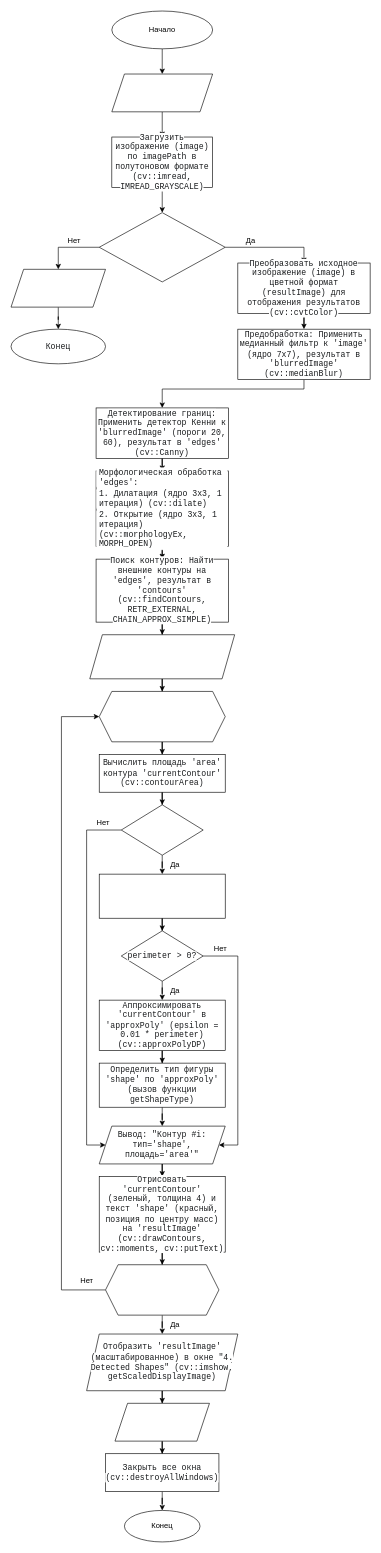
Some shapes in this 381 by 1553 pixel diagram are drawn without their labels. The centre of each missing label's shape, as x and y in pixels:
area >= 500?: [162,829]
Ввод: Путь к изображению (imagePath): [162,92]
Вывод: "Найдено N контуров" (где N = contours.size()): [162,656]
Вывод: "Ошибка загрузки изображения": [58,288]
Вычислить периметр 'perimeter' контура 'currentContour' (cv::arcLength): [162,895]
Для каждого контура 'currentContour' из 'contours' (инициализация цикла, i = 0): [162,716]
Изображение загружено (image.empty() == false)?: [162,247]
Ожидать нажатия клавиши (cv::waitKey): [161,1422]
Перейти к следующему контуру (i++) / Все контуры обработаны?: [162,1289]
